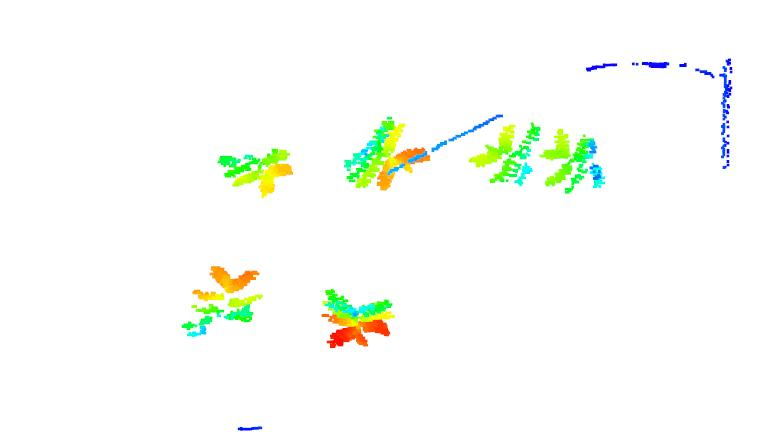chickpea: (340, 113, 431, 194), (180, 262, 264, 340), (468, 123, 543, 189), (319, 282, 393, 348), (540, 128, 609, 196), (217, 146, 297, 197)
